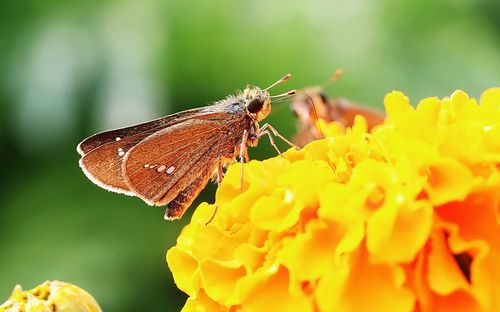Hesperiidae: (72, 69, 305, 224), (287, 69, 389, 137)
